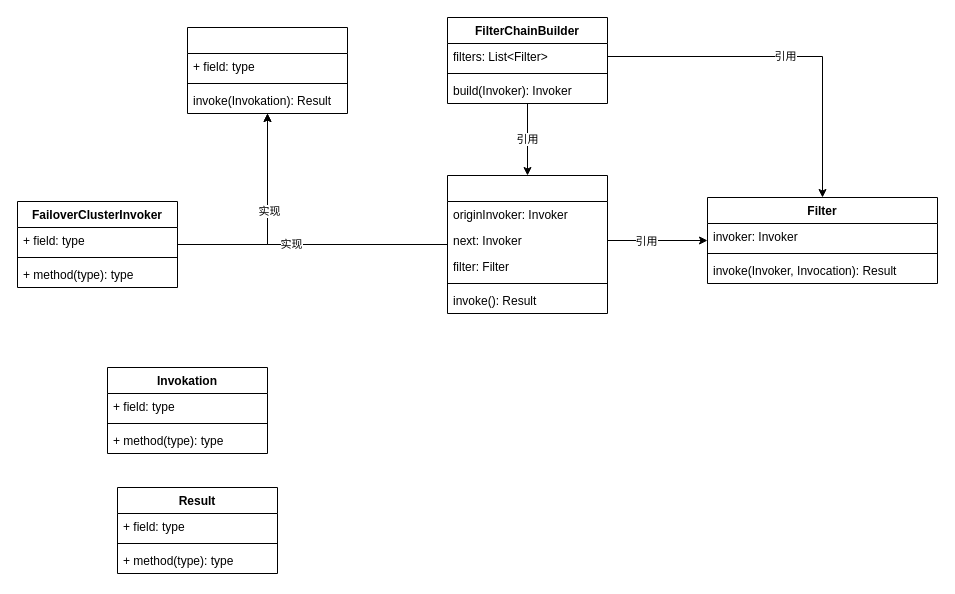
The diagram is 955 pixels wide and 594 high, and some of its shapes have lost their labels. Here are the shapes that lost their labels. From the top down, the box of each, then its label:
(186, 26, 348, 114): Invoker
(446, 174, 608, 314): FilterChainNode
